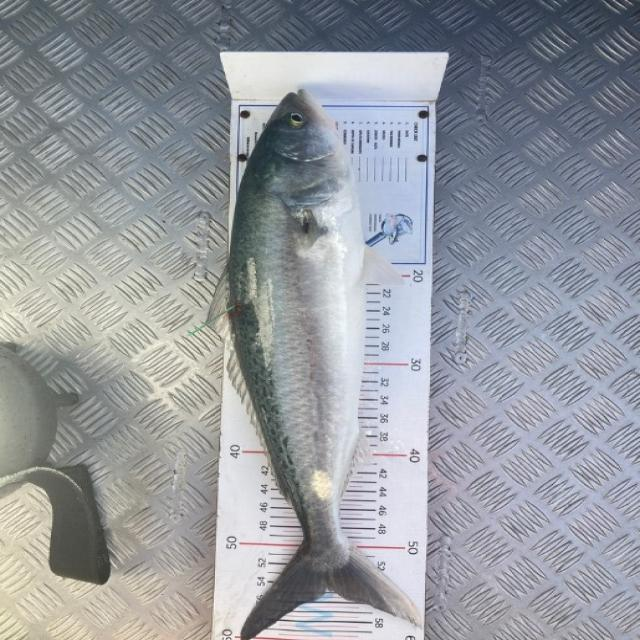Australian Salmon: (192, 69, 434, 639)
